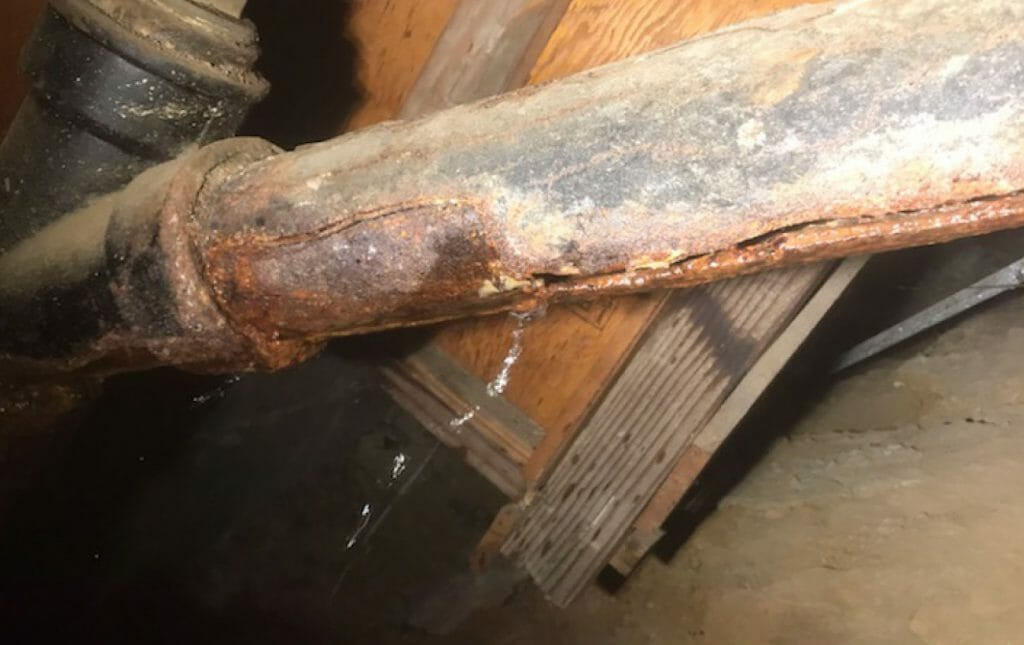Severe: (157, 196, 554, 372), (540, 166, 1024, 297)
